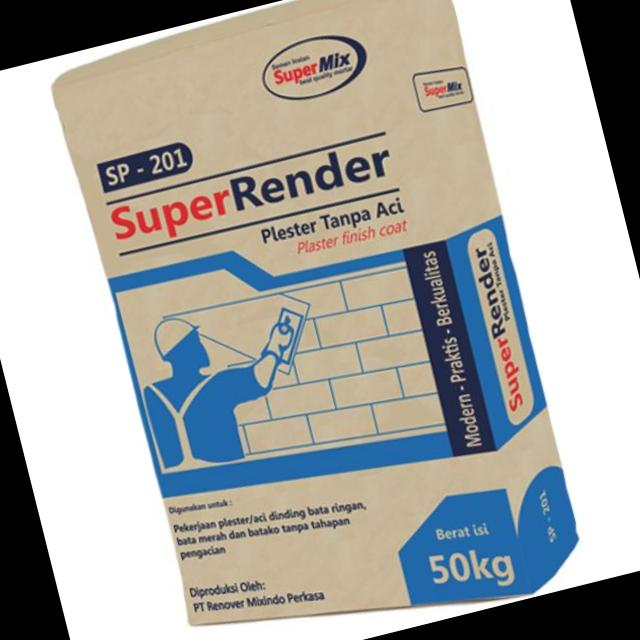KantongSemen: (41, 0, 594, 640)
